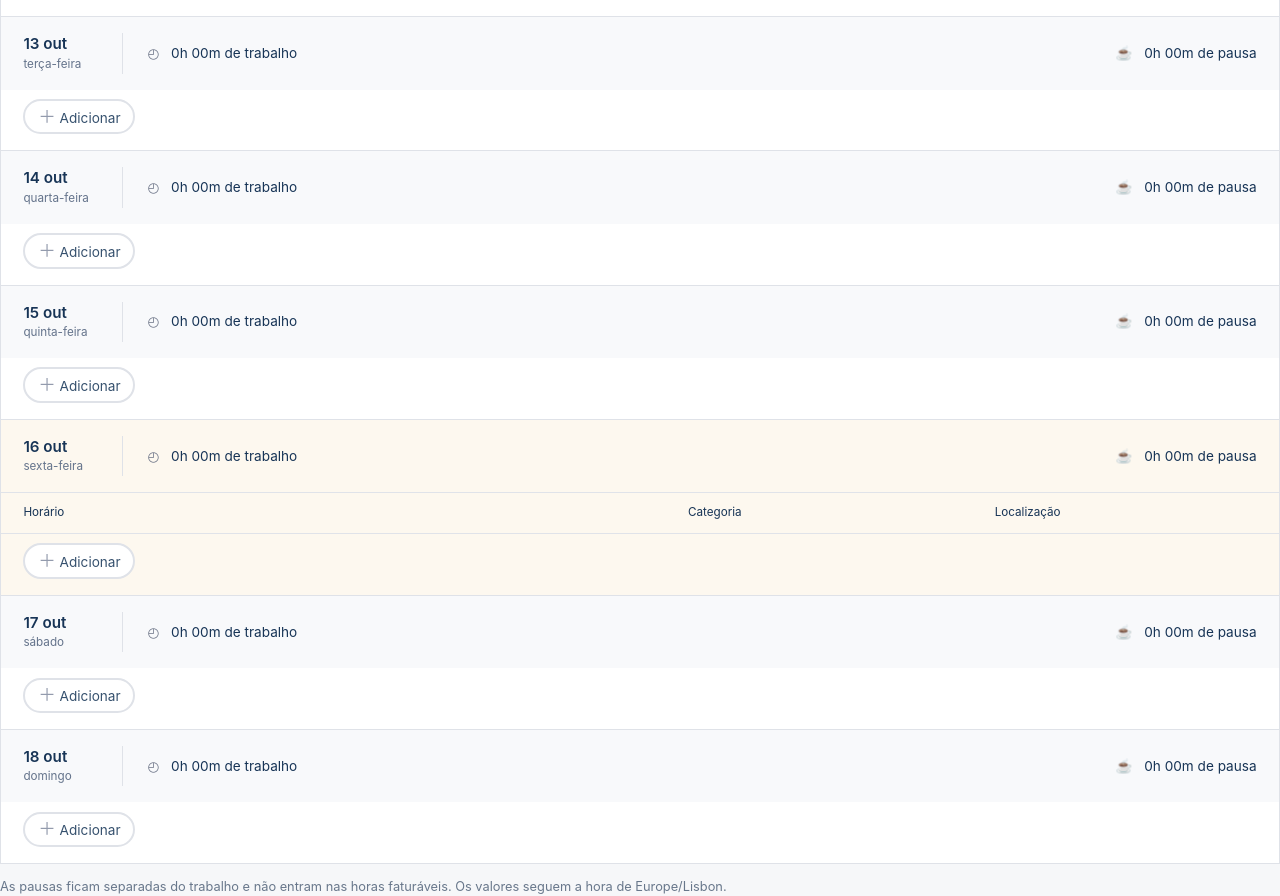
pré-seleciona a obra distribuída na data escolhida, incluindo dias fora de hoje
(page scrolled)
Click the button with aria-label "Adicionar período em 2026-10-17": click(79, 695) [23,678,135,713]
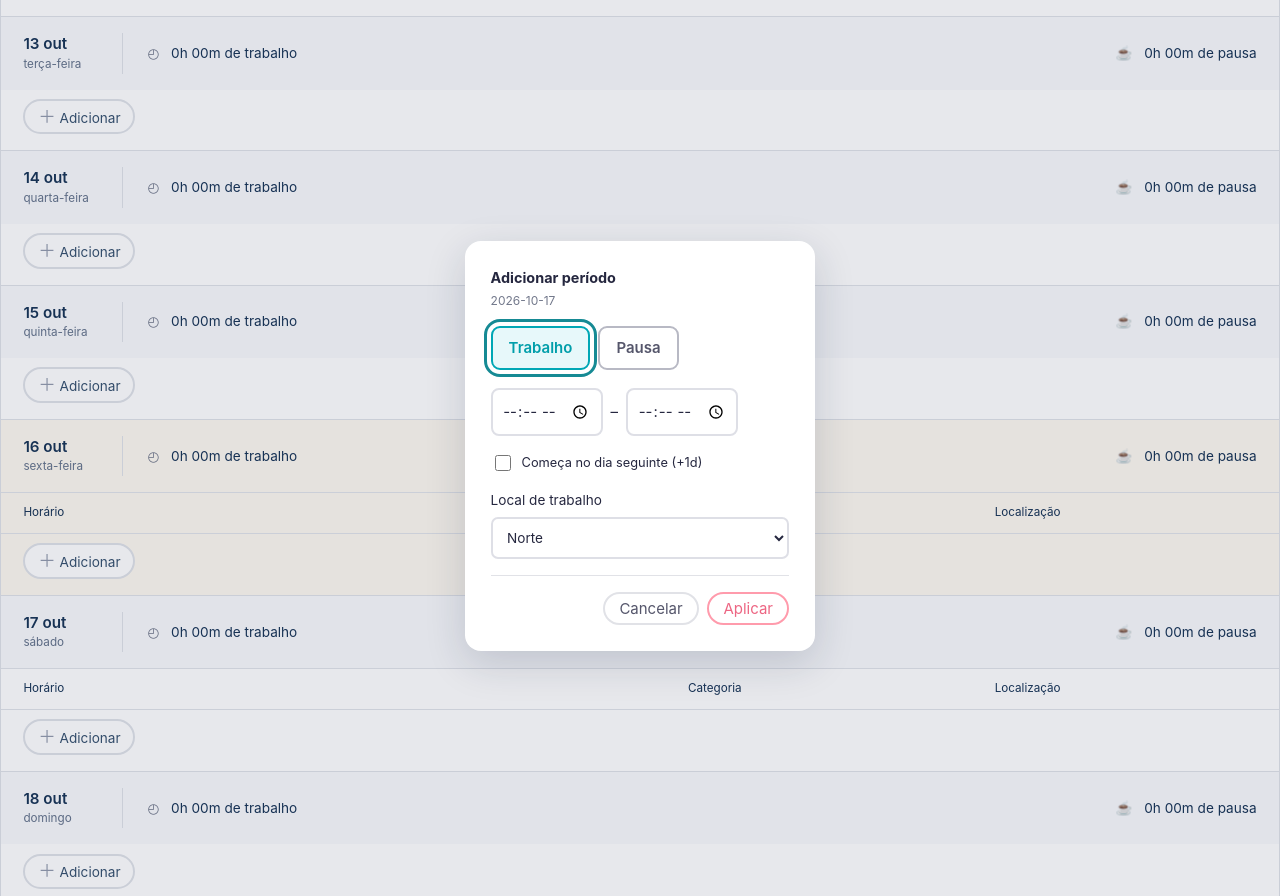
Expected: the dropdown labelled "Local de trabalho" shows "Norte", [491,516,789,559]
